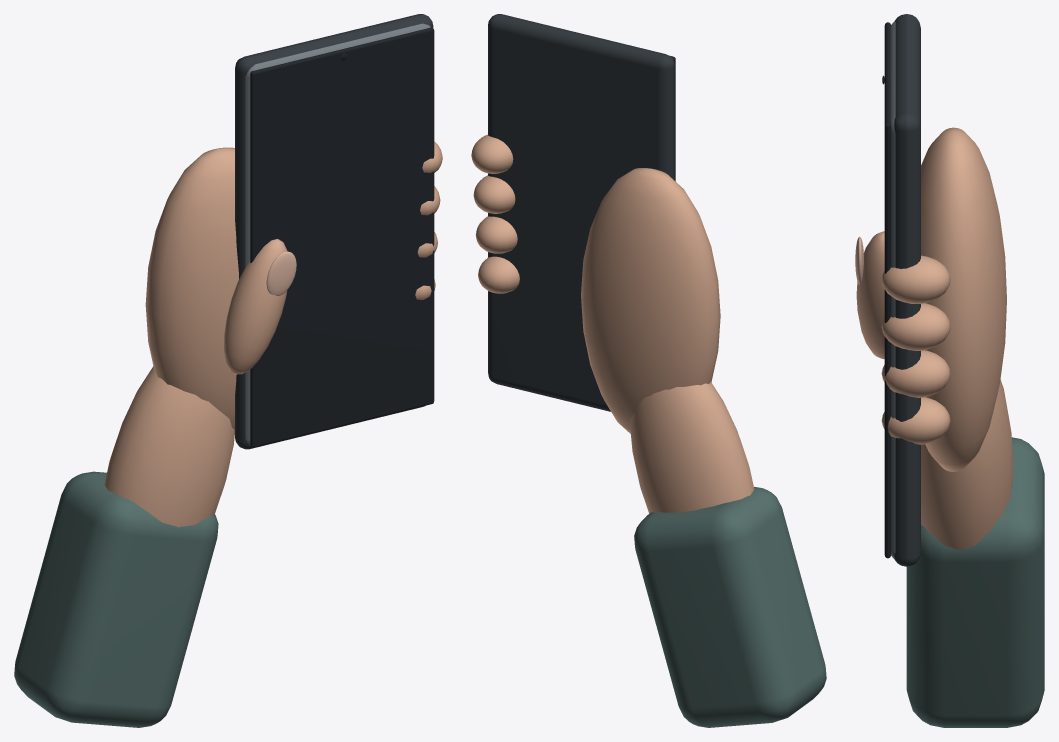
The model's file is PhoneGrip.fbx.
The picture shows the model from 3 angles, left to right: view 1: azimuth 30°, elevation 25°; view 2: azimuth 150°, elevation 25°; view 3: azimuth 270°, elevation 25°; orthographic projection. The views are drawn at different scales.
Visible parts, largest first — view 1: Display glass, Coat cuff, Palm, Wrist, Protective bumper, Thumb, Phone chassis, Thumbnail; view 2: Protective bumper, Coat cuff, Palm, Wrist, Finger pad.001, Finger pad, Finger pad.002, Finger pad.003; view 3: Coat cuff, Palm, Protective bumper, Wrist, Display glass, Thumb, Finger pad, Phone chassis, Finger pad.001, Finger pad.002, Finger pad.003, Thumbnail.
Part boxes in pixels (x1,y1,x2,y2): Display glass: [250, 27, 434, 447]; Coat cuff: [14, 471, 218, 727]; Palm: [145, 147, 238, 434]; Wrist: [104, 366, 234, 527]; Protective bumper: [235, 14, 433, 449]; Thumb: [224, 239, 287, 374]; Phone chassis: [245, 23, 430, 445]; Thumbnail: [266, 251, 296, 295]; Protective bumper: [488, 14, 674, 411]; Coat cuff: [634, 487, 826, 727]; Palm: [581, 168, 720, 433]; Wrist: [630, 382, 754, 513]; Finger pad.001: [473, 175, 515, 213]; Finger pad: [471, 134, 513, 173]; Finger pad.002: [475, 216, 517, 253]; Finger pad.003: [478, 256, 519, 293]; Coat cuff: [906, 437, 1044, 727]; Palm: [921, 127, 1006, 471]; Protective bumper: [894, 14, 920, 566]; Wrist: [921, 379, 1013, 550]; Display glass: [884, 22, 890, 558]; Thumb: [856, 231, 884, 359]; Finger pad: [881, 255, 950, 303]; Phone chassis: [890, 22, 895, 558]; Finger pad.001: [881, 303, 950, 350]; Finger pad.002: [881, 350, 950, 397]; Finger pad.003: [881, 397, 950, 444]; Thumbnail: [855, 236, 863, 284].
Bounding box in the file's own units: 16.2 × 26.74 × 6.04.
